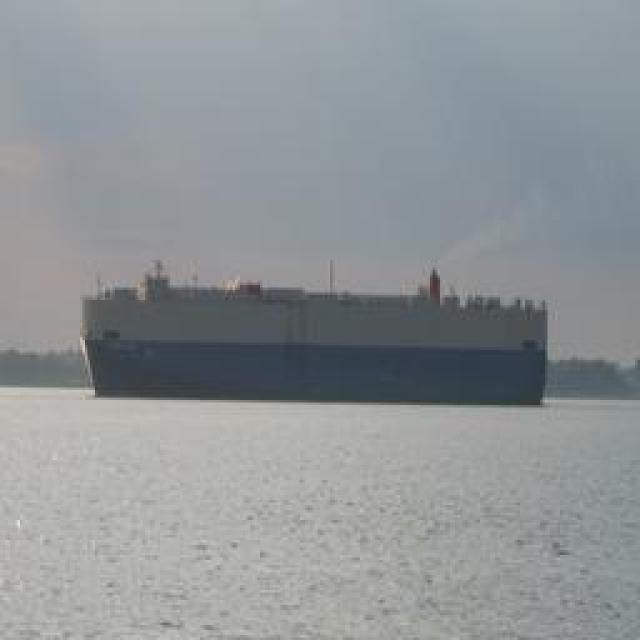Ship: (90, 261, 550, 396)
